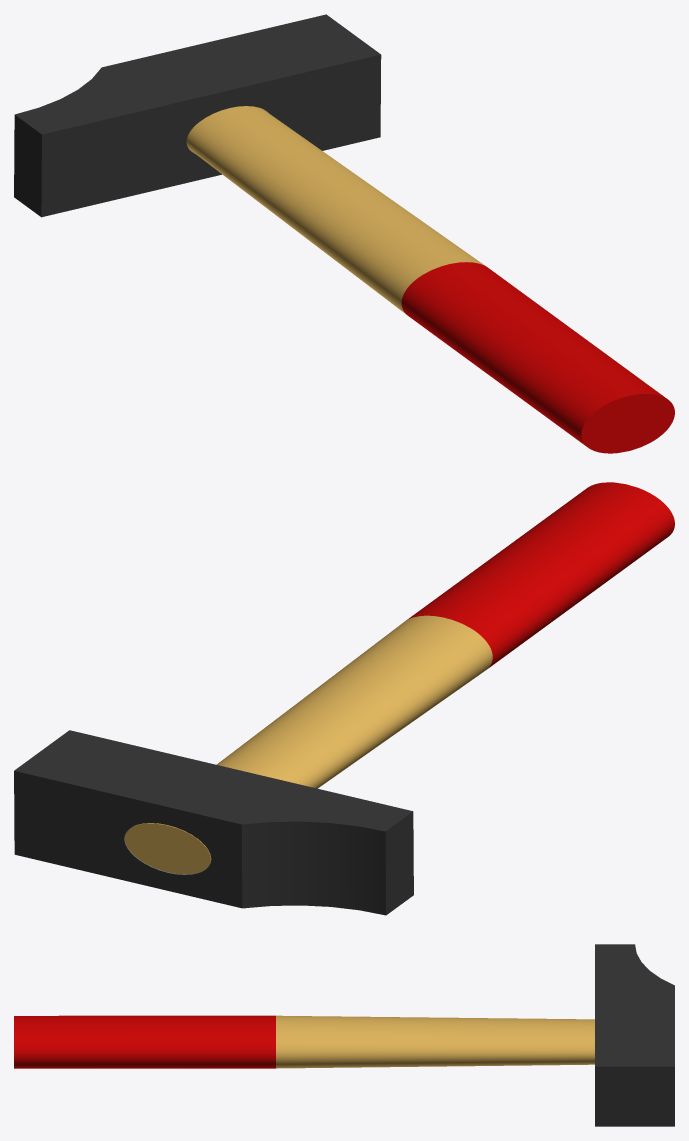
3 renders of one model, top to bottom at view 1: azimuth 30°, elevation 25°; view 2: azimuth 150°, elevation 25°; view 3: azimuth 270°, elevation 25°, orthographic. The views are drawn at different scales.
Parts seen in each view (by area): view 1: Hammer.001, Hammer-3, Hammer-2; view 2: Hammer.001, Hammer-2, Hammer-3; view 3: Hammer-2, Hammer-3, Hammer.001.
Boxes of the visible parts, x1,y1,x2,y2 form: Hammer.001: (14,14,381,217); Hammer-3: (401,262,674,453); Hammer-2: (186,106,485,313); Hammer.001: (14,730,413,915); Hammer-2: (125,615,492,874); Hammer-3: (406,482,674,668); Hammer-2: (276,1015,594,1068); Hammer-3: (14,1015,275,1068); Hammer.001: (595,944,674,1126).
Bounding box in the file's own units: 0.4491 × 0.1078 × 1.04.
